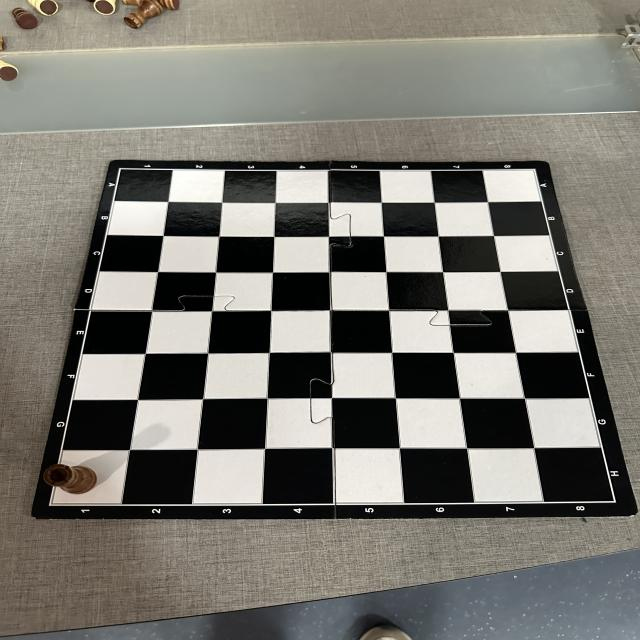Black-Pawn: (12, 8, 38, 30)
Black-Rook: (43, 463, 98, 496), (124, 0, 163, 29)
White-Pawn: (27, 0, 58, 17)
